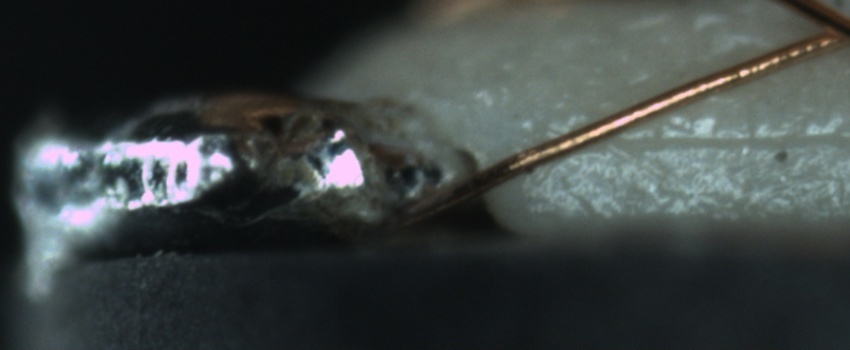CL: (790, 5, 850, 56)
DL: (564, 108, 847, 172)
